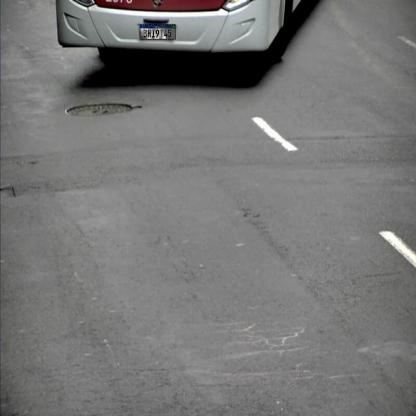PlacaM: (140, 24, 176, 40)
